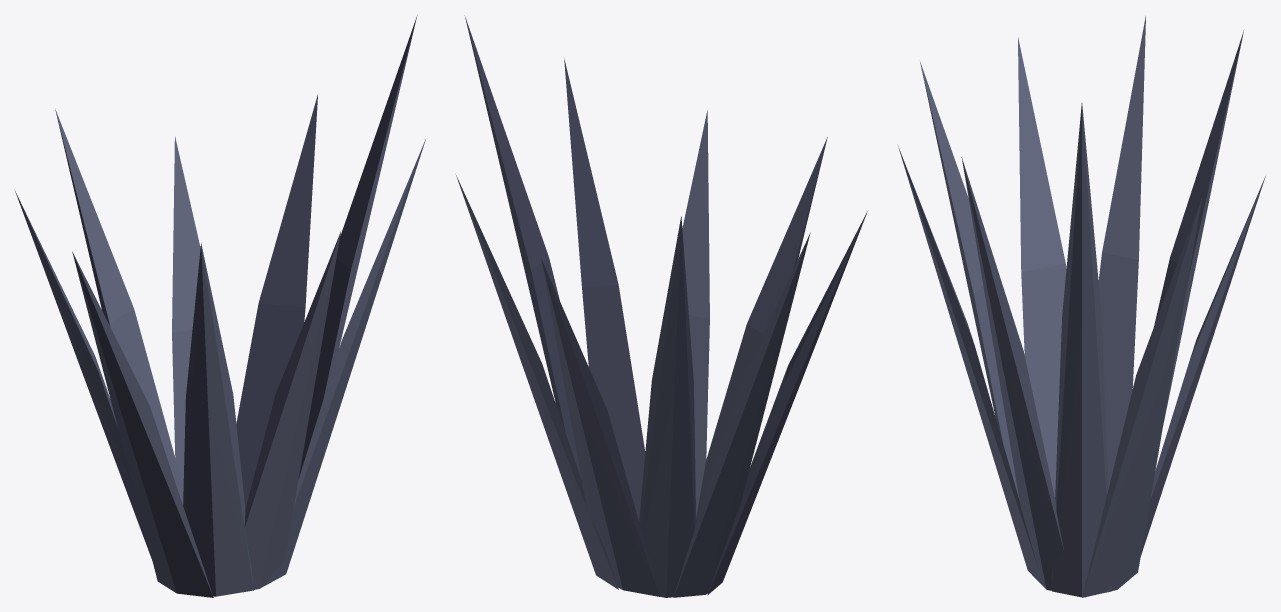
The model's file is TW_GRASS_TALL_A_LOD0.glb.
3 views of the same model, side by side, from view 1: azimuth 30°, elevation 25°; view 2: azimuth 150°, elevation 25°; view 3: azimuth 270°, elevation 25° (orthographic). The views are drawn at different scales.
Parts seen in each view (by area): view 1: TW_GRASS_TALL_A_LOD0; view 2: TW_GRASS_TALL_A_LOD0; view 3: TW_GRASS_TALL_A_LOD0.
Boxes of the visible parts, bbox=[...] form: TW_GRASS_TALL_A_LOD0: bbox=[15, 15, 425, 597]; TW_GRASS_TALL_A_LOD0: bbox=[456, 15, 867, 597]; TW_GRASS_TALL_A_LOD0: bbox=[898, 16, 1265, 597].
Size of the model in its own units: 0.65 by 0.85 by 0.5.
Materials: 1 (1 with a texture image).
